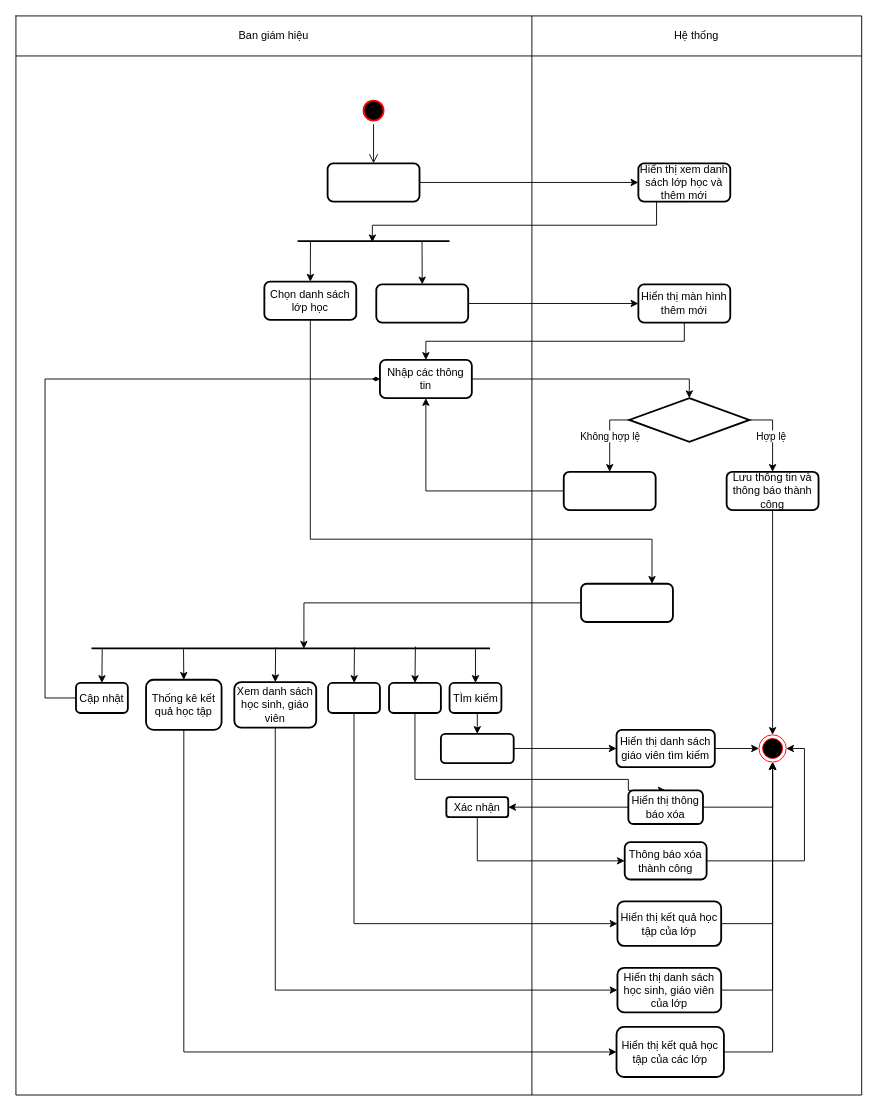
This 878x1111 diagram has some shape labels left out. The centre of each missing label's shape, as x and y in pixels:
Hiển thị danh sách lớp học: (x=626, y=602)
Kiểm tra hợp lệ: (x=689, y=419)
Nhấn quản lý lớp học: (x=373, y=182)
Nhập thông tin tìm kiếm: (x=477, y=748)
Thêm mới lớp học: (x=422, y=303)
Xem kết quả: (x=353, y=697)
Xóa: (x=414, y=697)
Yêu cầu nhập lại: (x=609, y=490)
